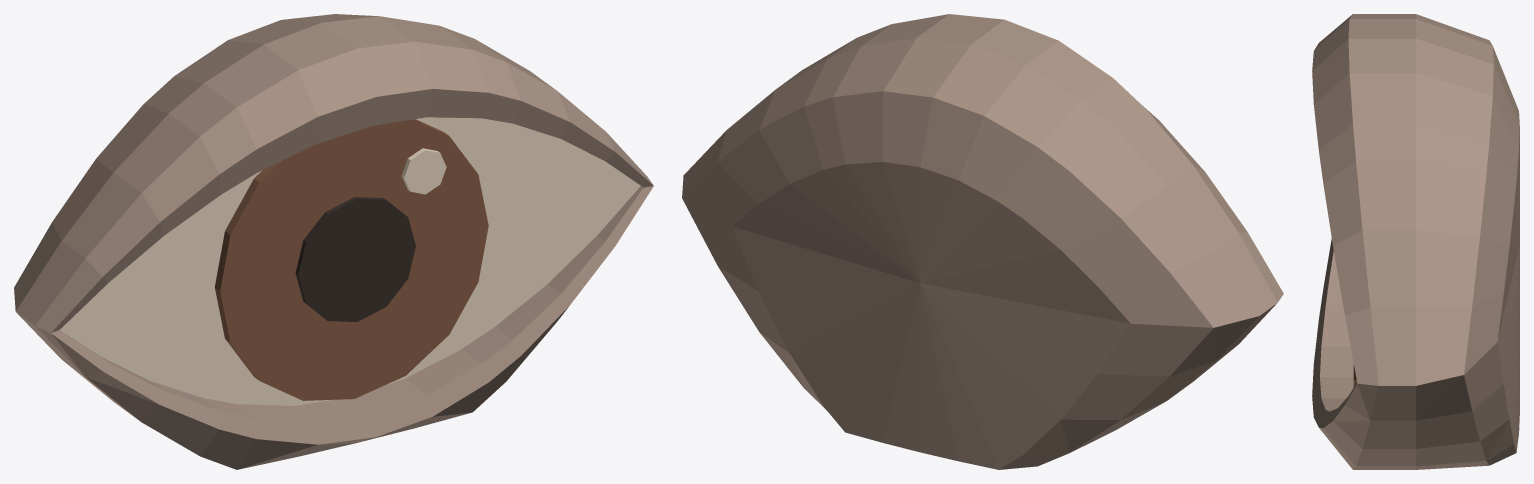
The model's file is KANJI_24_ME.fbx.
The picture shows the model from 3 angles, left to right: view 1: azimuth 30°, elevation 25°; view 2: azimuth 150°, elevation 25°; view 3: azimuth 270°, elevation 25°; orthographic projection. The views are drawn at different scales.
Visible parts, largest first — view 1: SM_KANJI_24_Me; view 2: SM_KANJI_24_Me; view 3: SM_KANJI_24_Me.
Boxes of the visible parts, x1=… form: SM_KANJI_24_Me: x1=14, y1=14, x2=653, y2=469; SM_KANJI_24_Me: x1=682, y1=14, x2=1283, y2=469; SM_KANJI_24_Me: x1=1312, y1=14, x2=1519, y2=469.
Bounding box in the file's own units: 0.26 × 0.16 × 0.08.
